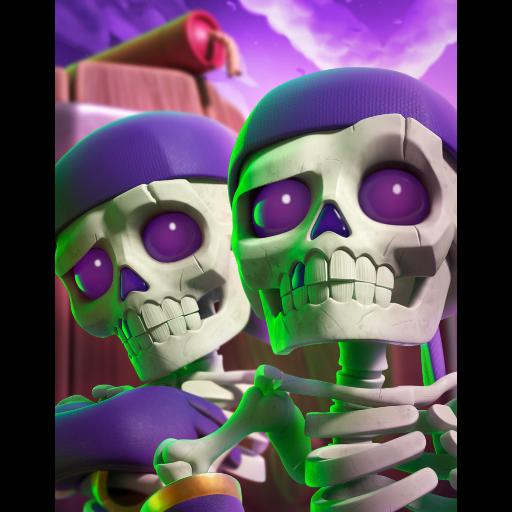wall-breakers-evo: (56, 0, 458, 512)
